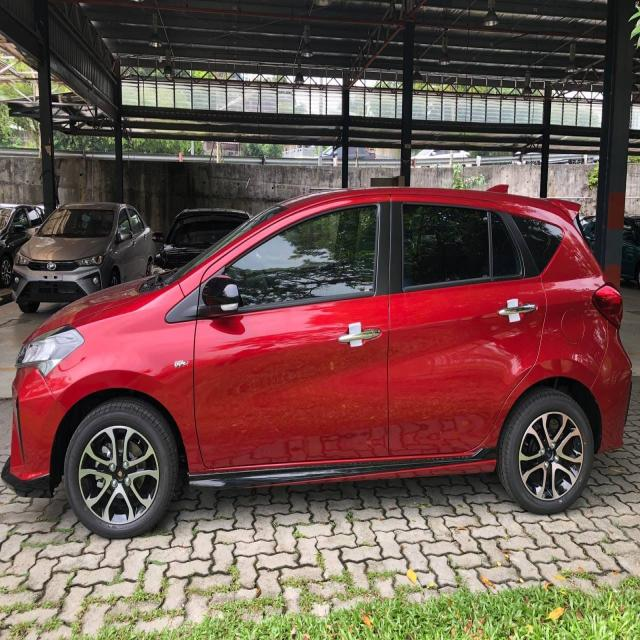PeroduaMyvi: (5, 182, 633, 539)
